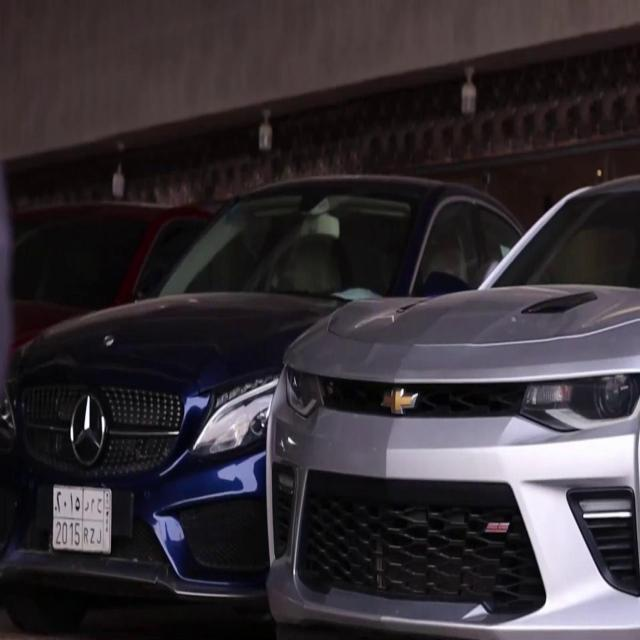license_plate: (46, 478, 112, 559)
